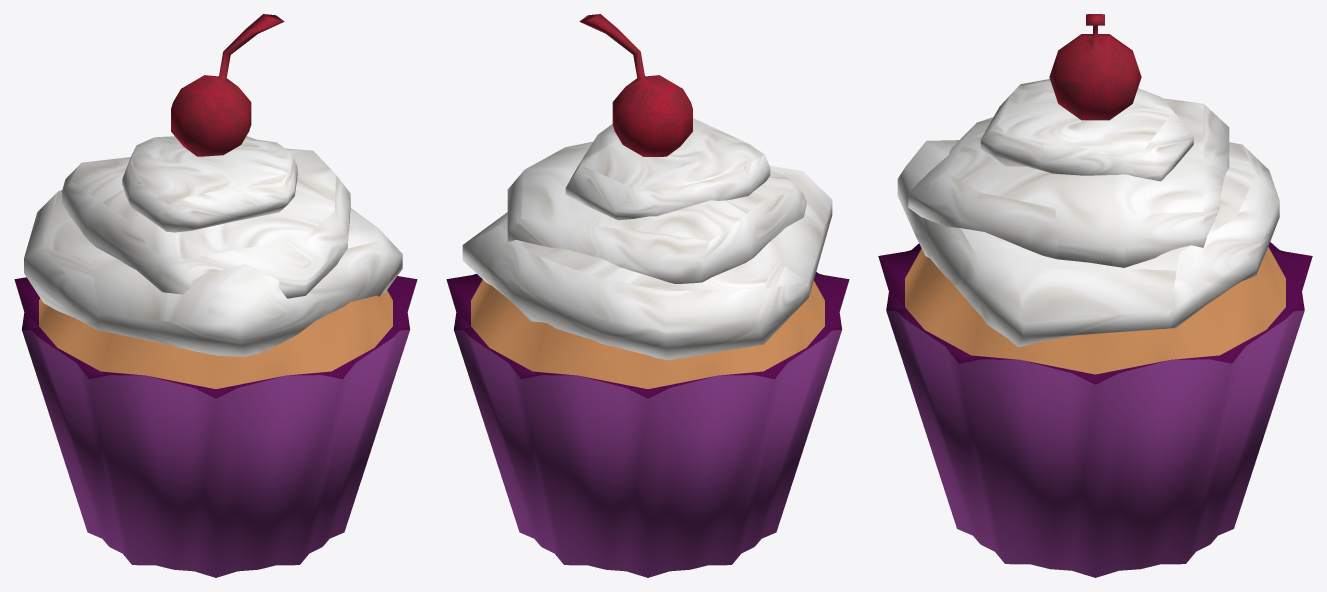
The model's file is CUPCAKE04.FBX.
3 renders of one model, left to right at view 1: azimuth 30°, elevation 25°; view 2: azimuth 150°, elevation 25°; view 3: azimuth 270°, elevation 25°, orthographic. The views are drawn at different scales.
Parts seen in each view (by area): view 1: Cylinder001, Box003, Object002, Object001, Sphere001; view 2: Cylinder001, Box003, Object002, Object001, Sphere001; view 3: Cylinder001, Box003, Object002, Object001, Sphere001.
Part boxes in pixels (left/top/right/bottom): Cylinder001: left=14, top=276, right=417, bottom=577; Box003: left=24, top=190, right=402, bottom=356; Object002: left=62, top=148, right=350, bottom=298; Object001: left=122, top=136, right=297, bottom=232; Sphere001: left=171, top=14, right=284, bottom=156; Cylinder001: left=446, top=272, right=849, bottom=577; Box003: left=462, top=166, right=832, bottom=360; Object002: left=507, top=141, right=806, bottom=283; Object001: left=565, top=118, right=770, bottom=220; Sphere001: left=579, top=14, right=692, bottom=156; Cylinder001: left=878, top=242, right=1312, bottom=577; Box003: left=897, top=140, right=1279, bottom=347; Object002: left=908, top=98, right=1229, bottom=267; Object001: left=980, top=79, right=1193, bottom=181; Sphere001: left=1049, top=14, right=1141, bottom=120.
Bounding box in the file's own units: 50.19 × 67.93 × 50.35.
5 materials, 2 textured.
